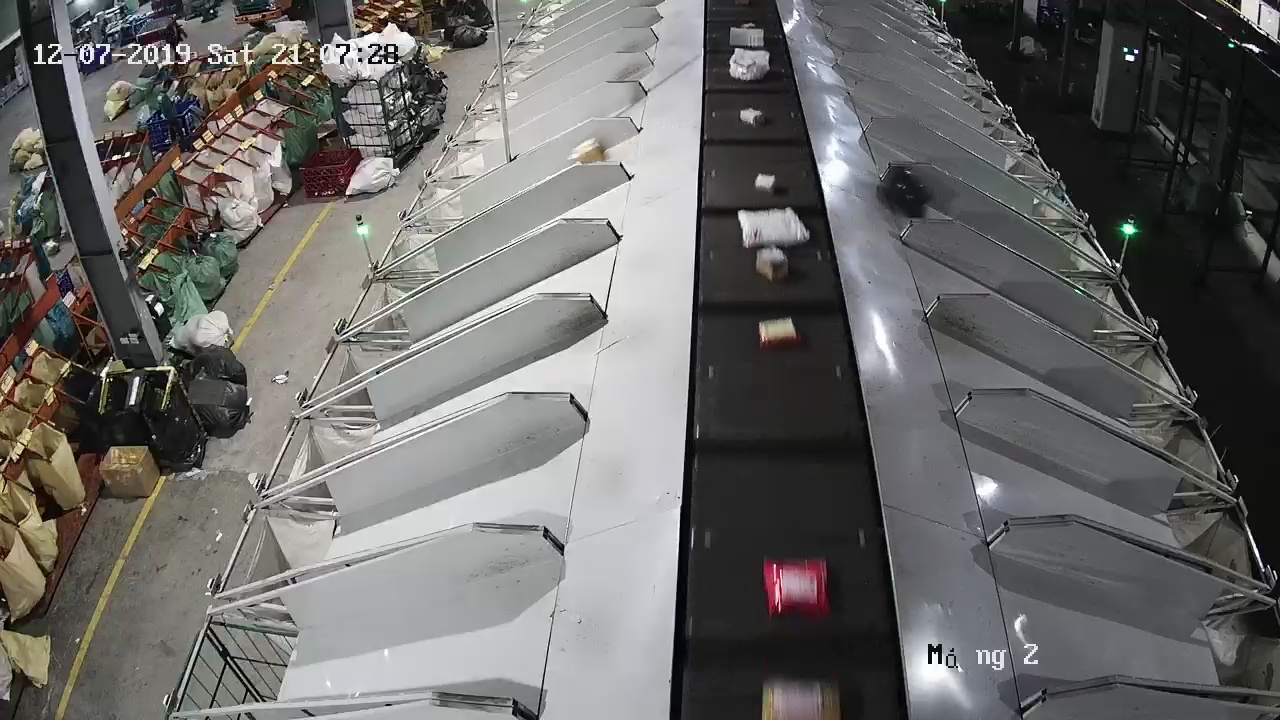parcel: (875, 167, 931, 218), (567, 136, 606, 164)
